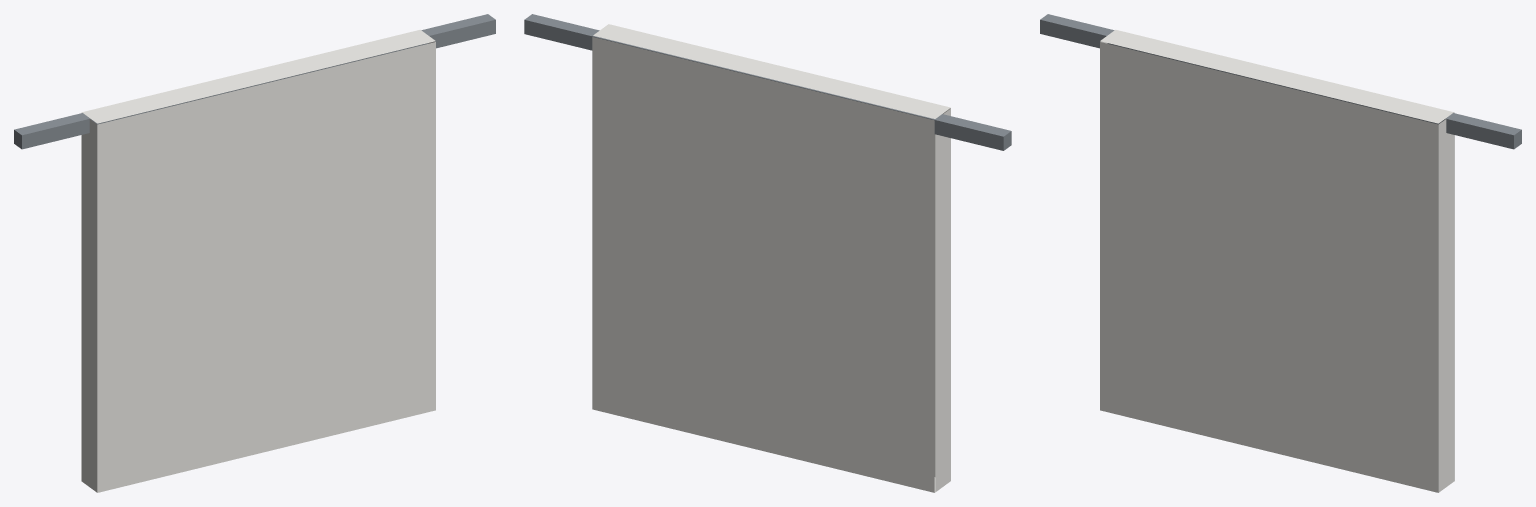
Rendered from Towel_Rail.glb.
3 renders of one model, left to right at view 1: azimuth 30°, elevation 25°; view 2: azimuth 150°, elevation 25°; view 3: azimuth 330°, elevation 25°, orthographic.
Parts seen in each view (by area): view 1: Towel_Rail; view 2: Towel_Rail; view 3: Towel_Rail.
Part boxes in pixels (x1,y1,x2,y2): Towel_Rail: (14, 14, 495, 492); Towel_Rail: (524, 14, 1011, 492); Towel_Rail: (1040, 14, 1521, 492).
Size of the model in its own units: 0.7 by 0.5212 by 0.0412.
Materials: 1 (1 with a texture image).
